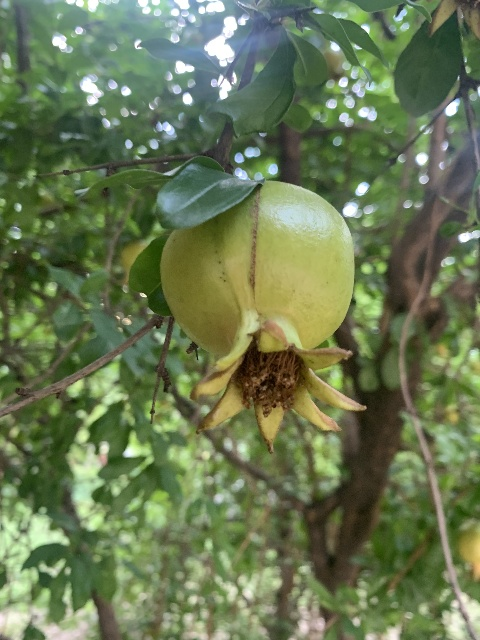mid-growth: (160, 178, 366, 452)
